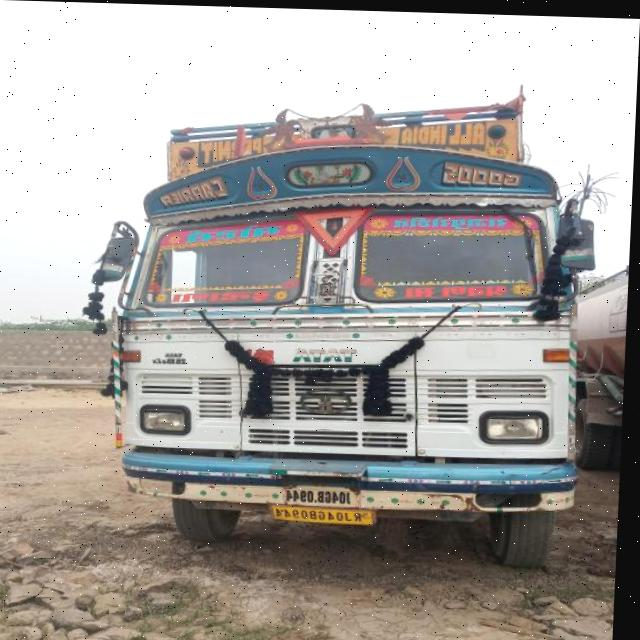plate: (270, 497, 388, 533)
